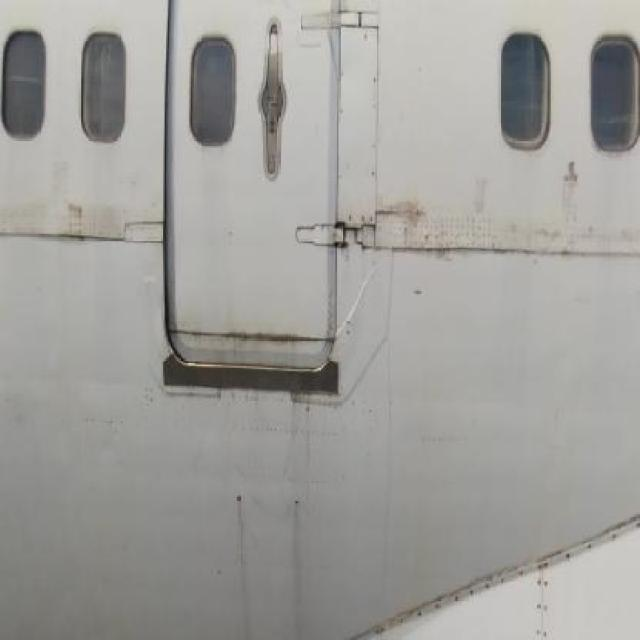Missing-Rivet: (432, 518, 630, 613)
Rust: (225, 490, 260, 628), (284, 484, 316, 634), (385, 190, 446, 261), (217, 318, 306, 350), (65, 199, 87, 246)
Scartch: (558, 148, 588, 228), (466, 166, 494, 223)
